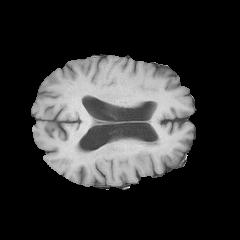glioma: (74, 136, 167, 173)
